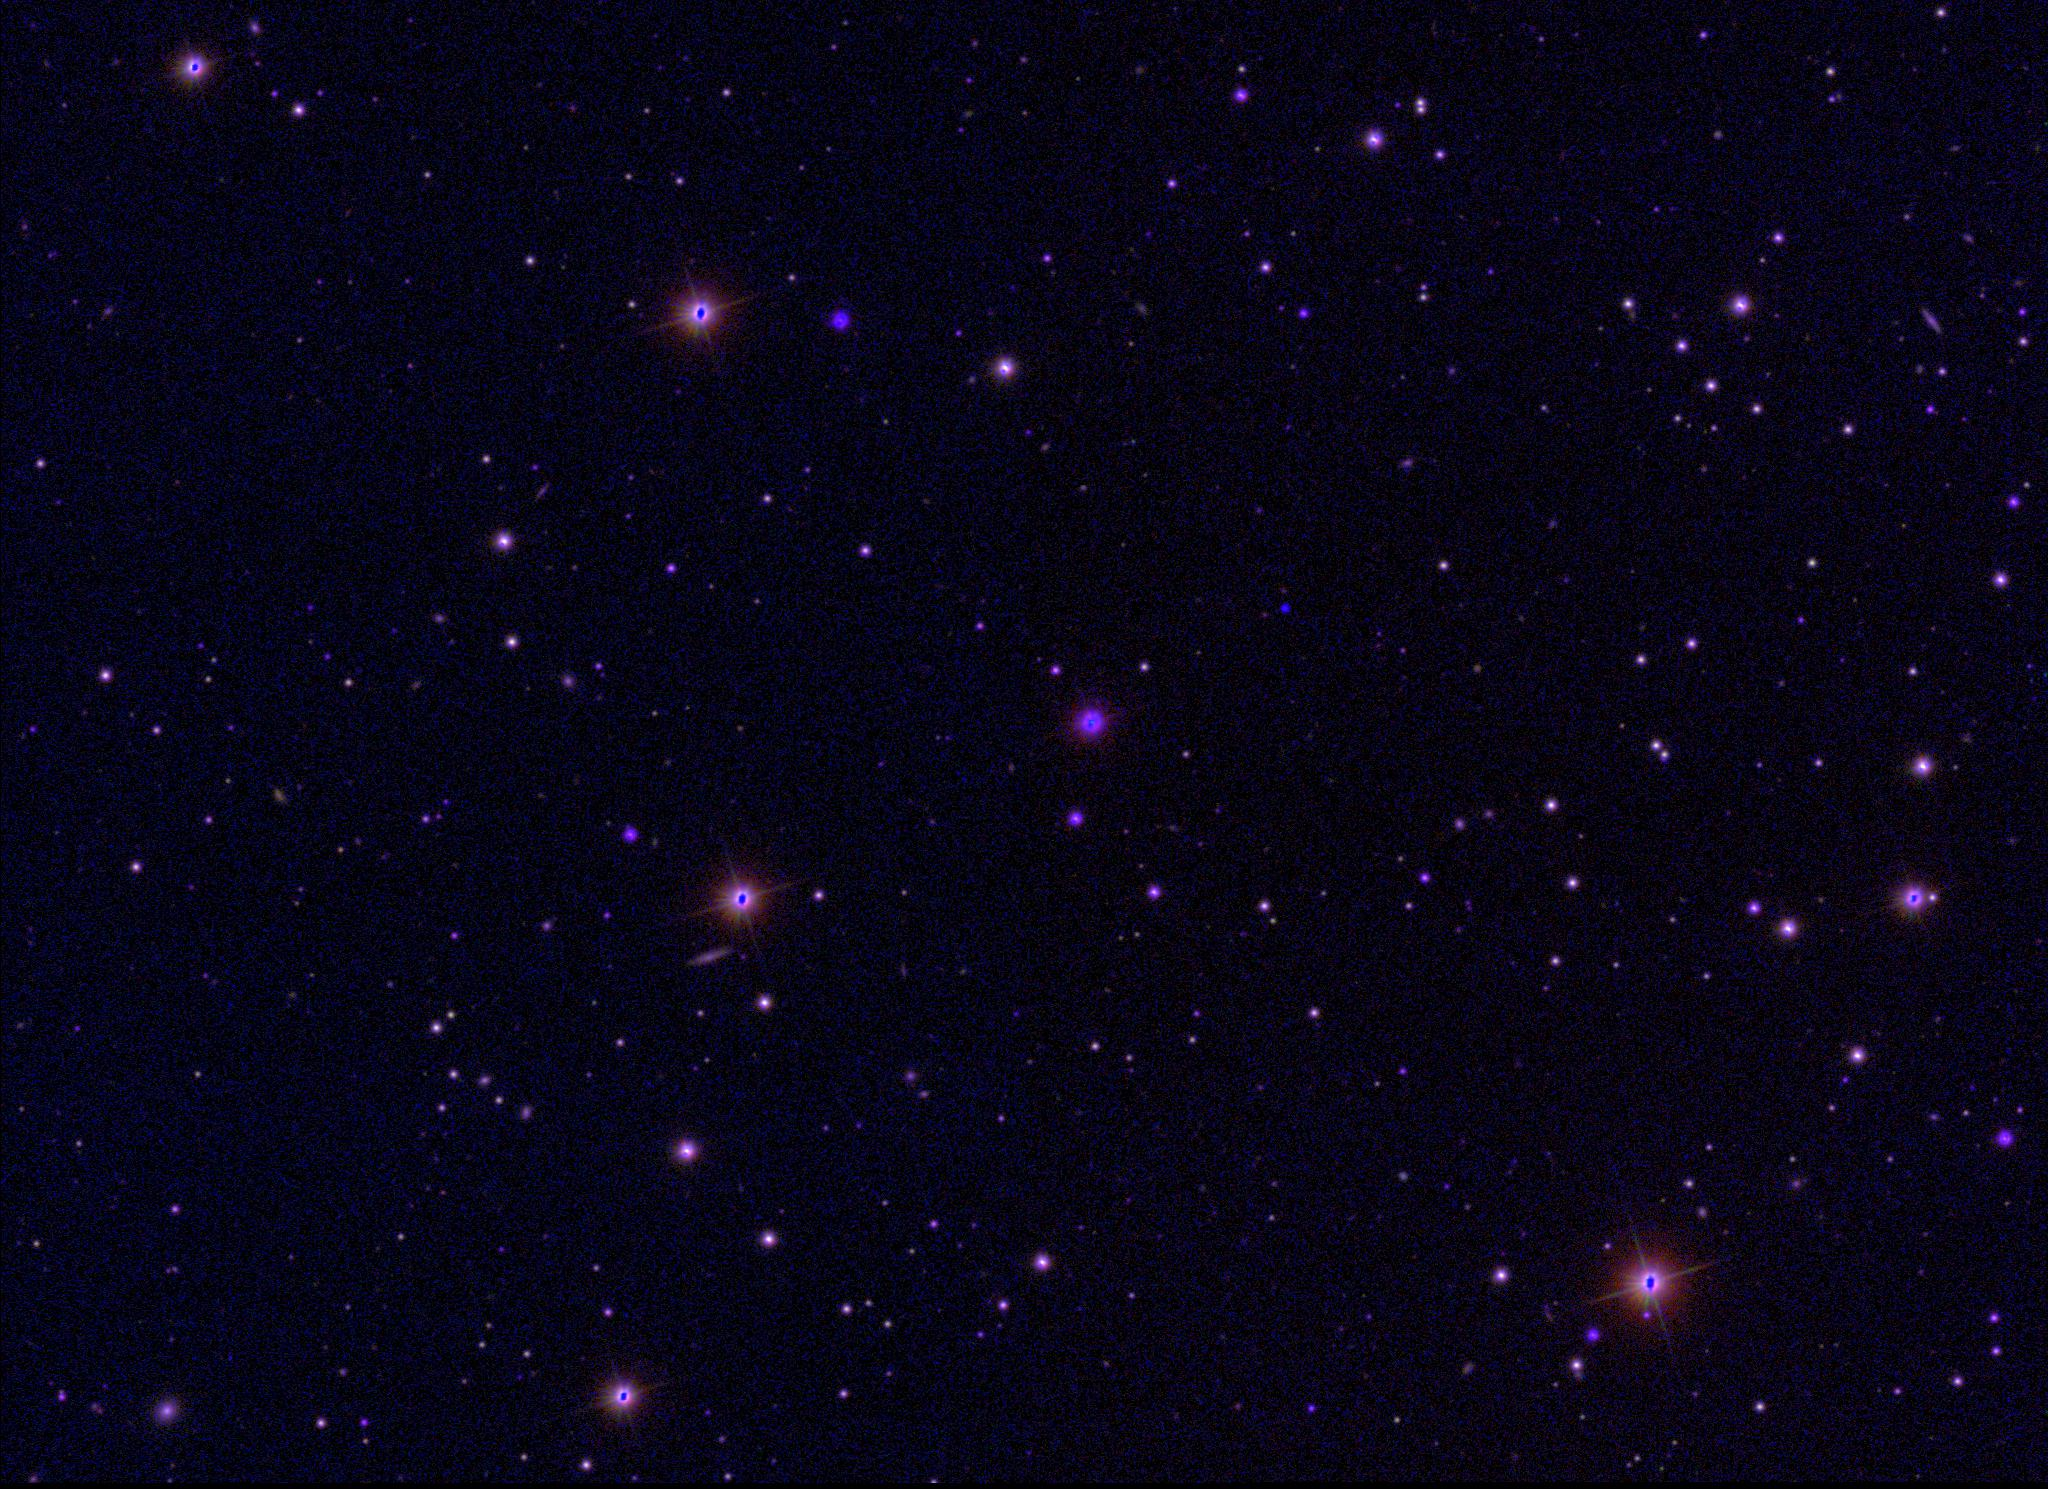L: (1278, 601, 1293, 616)
